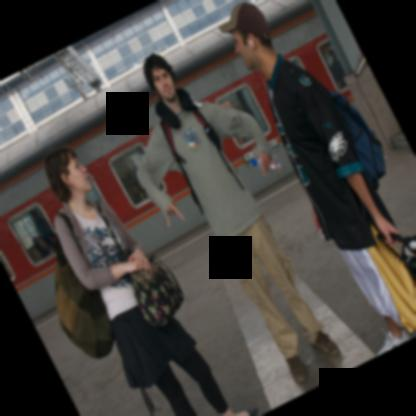backpack: (53, 210, 114, 362), (328, 89, 386, 191), (155, 101, 226, 163)
handbag: (94, 199, 185, 327), (54, 210, 115, 358)
